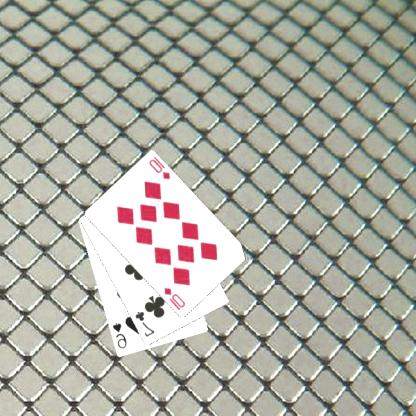10D: (163, 284, 189, 312), (148, 153, 173, 181)
7C: (134, 309, 158, 338)
9S: (112, 320, 130, 350)
